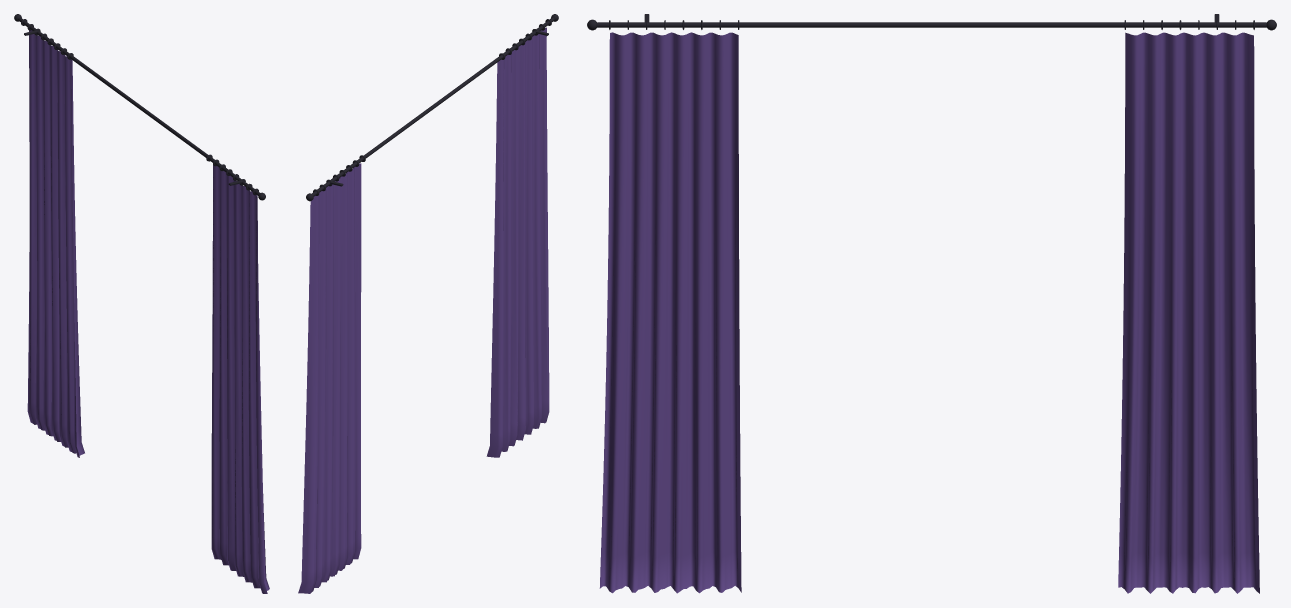
File: curtains.fbx
The picture shows the model from 3 angles, left to right: view 1: azimuth 30°, elevation 25°; view 2: azimuth 150°, elevation 25°; view 3: azimuth 270°, elevation 25°; orthographic projection. The views are drawn at different scales.
Parts seen in each view (by area): view 1: Curtain_R, Curtain_L, curtains; view 2: Curtain_L, Curtain_R, curtains; view 3: Curtain_L, Curtain_R, curtains.
Boxes of the visible parts, x1=… form: Curtain_R: x1=206, y1=154, x2=269, y2=593; Curtain_L: x1=21, y1=19, x2=84, y2=457; curtains: x1=14, y1=14, x2=265, y2=200; Curtain_L: x1=298, y1=155, x2=365, y2=593; Curtain_R: x1=486, y1=19, x2=551, y2=457; curtains: x1=306, y1=14, x2=558, y2=201; Curtain_L: x1=1118, y1=20, x2=1259, y2=593; Curtain_R: x1=599, y1=20, x2=741, y2=593; curtains: x1=587, y1=14, x2=1276, y2=30.
Bounding box in the file's own units: 0.1882 × 2.51 × 2.78.
